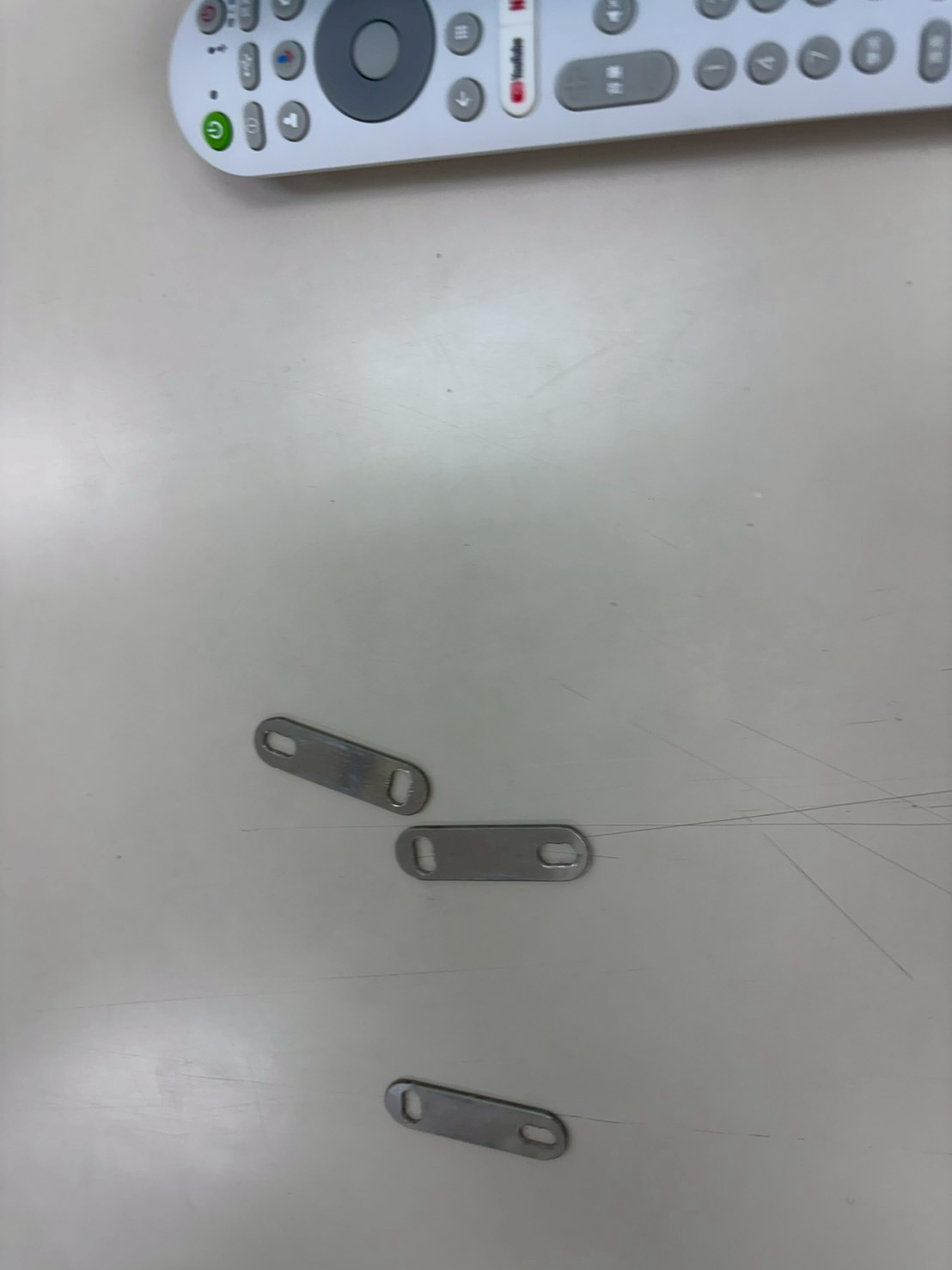Fe: (248, 707, 428, 813), (379, 1073, 570, 1167), (398, 825, 593, 882)
